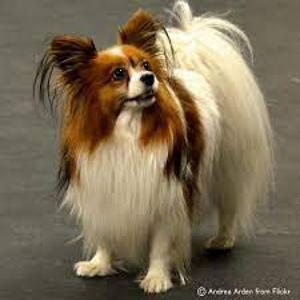yell: (38, 0, 272, 293)
